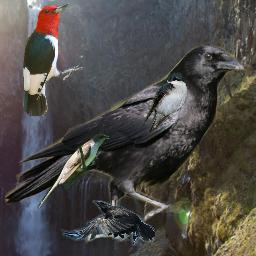Crow: (5, 43, 252, 245), (61, 200, 155, 246)
Cuckoo: (37, 133, 109, 210)
Swallow: (142, 71, 189, 133)
Woodpecker: (22, 3, 83, 116)
